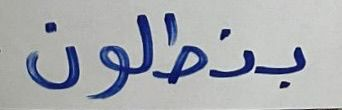beh: (260, 42, 310, 91)
lam: (132, 9, 153, 77)
noon: (22, 15, 83, 93), (211, 23, 258, 83)
tah: (157, 11, 209, 88)
waw: (88, 35, 132, 99)
